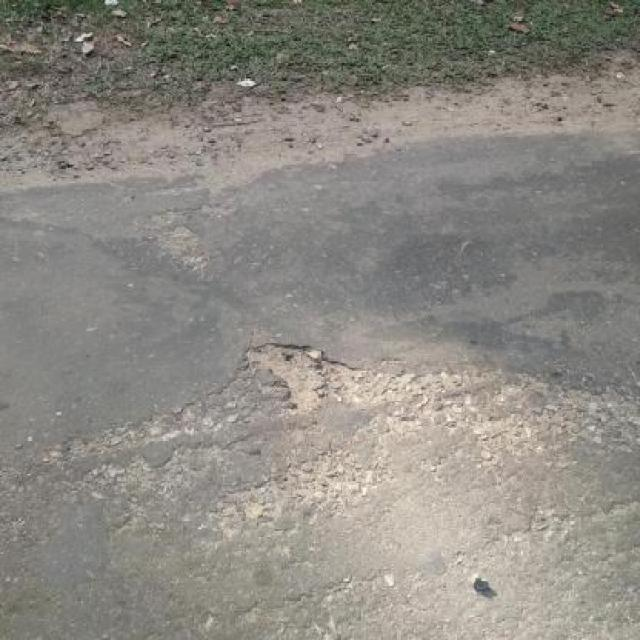Pothole: (240, 340, 332, 418)
